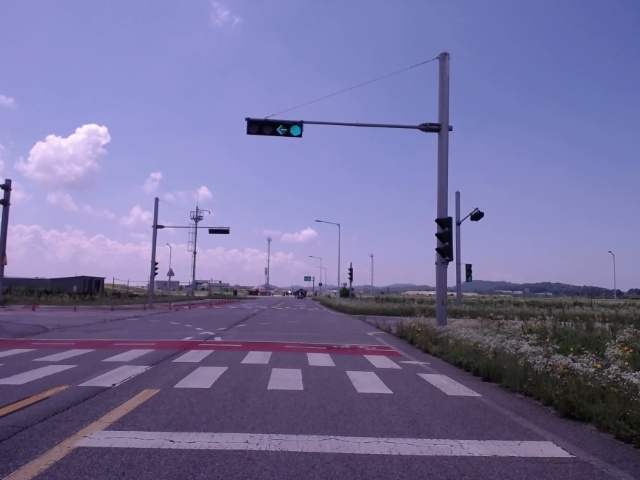all_green_4: (246, 117, 305, 139)
